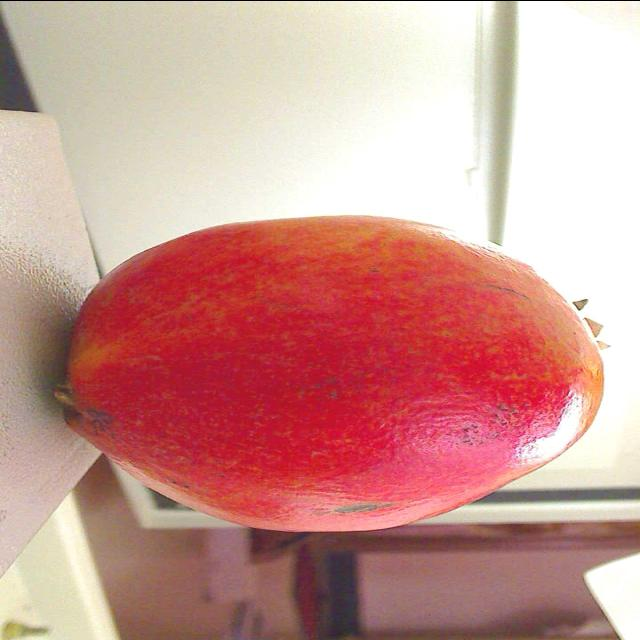pomegranate: (32, 186, 640, 546)
